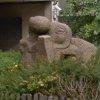Statue: (19, 10, 94, 63)
